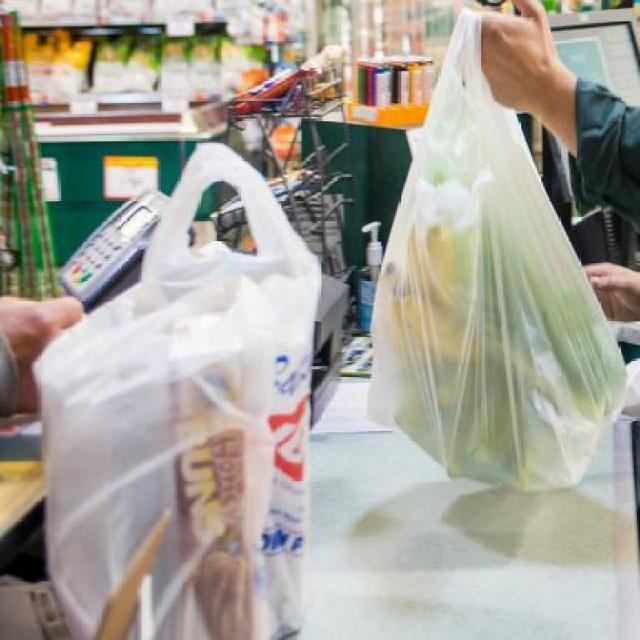plastic bag: (23, 144, 336, 640), (374, 12, 621, 490)
